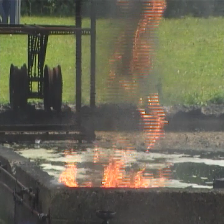fire_h: (101, 136, 170, 188), (130, 1, 165, 74), (138, 91, 167, 152), (59, 150, 77, 187), (109, 32, 124, 62)
fire_l: (119, 79, 137, 91), (93, 144, 99, 163), (80, 180, 92, 187), (108, 68, 115, 79)
